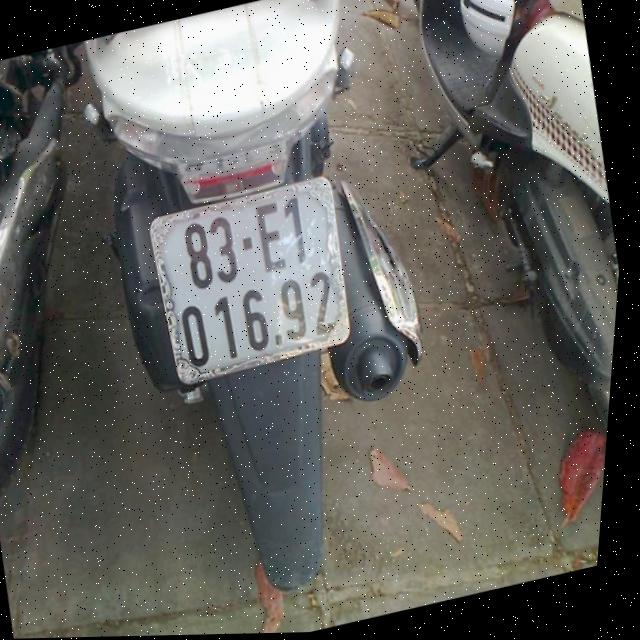motorcycle: (38, 0, 500, 631), (342, 0, 640, 543), (0, 41, 164, 514)
plate: (131, 171, 369, 393)
